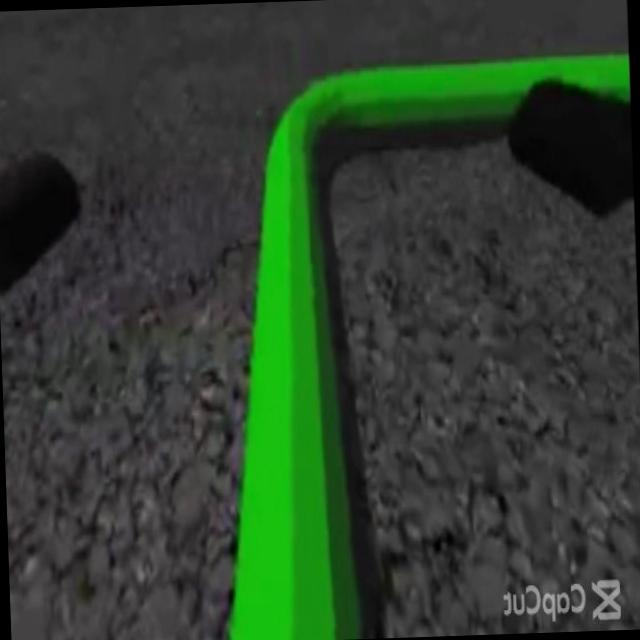gas: (204, 63, 386, 640), (256, 55, 507, 162)
